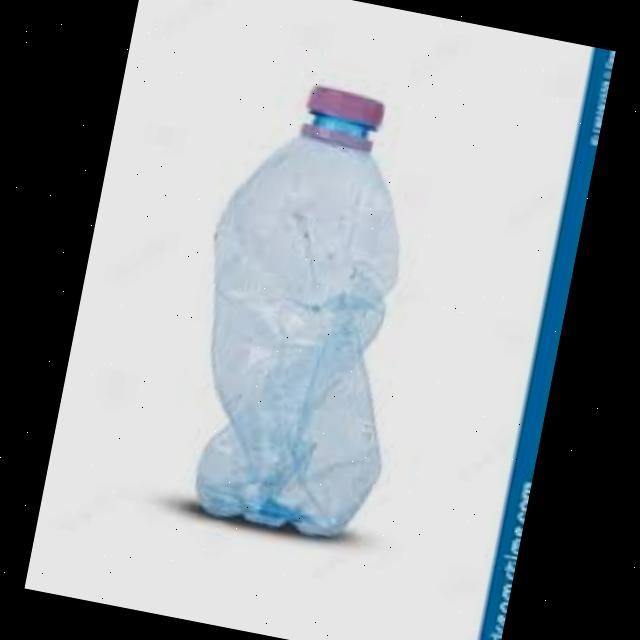trash: (156, 41, 479, 564)
